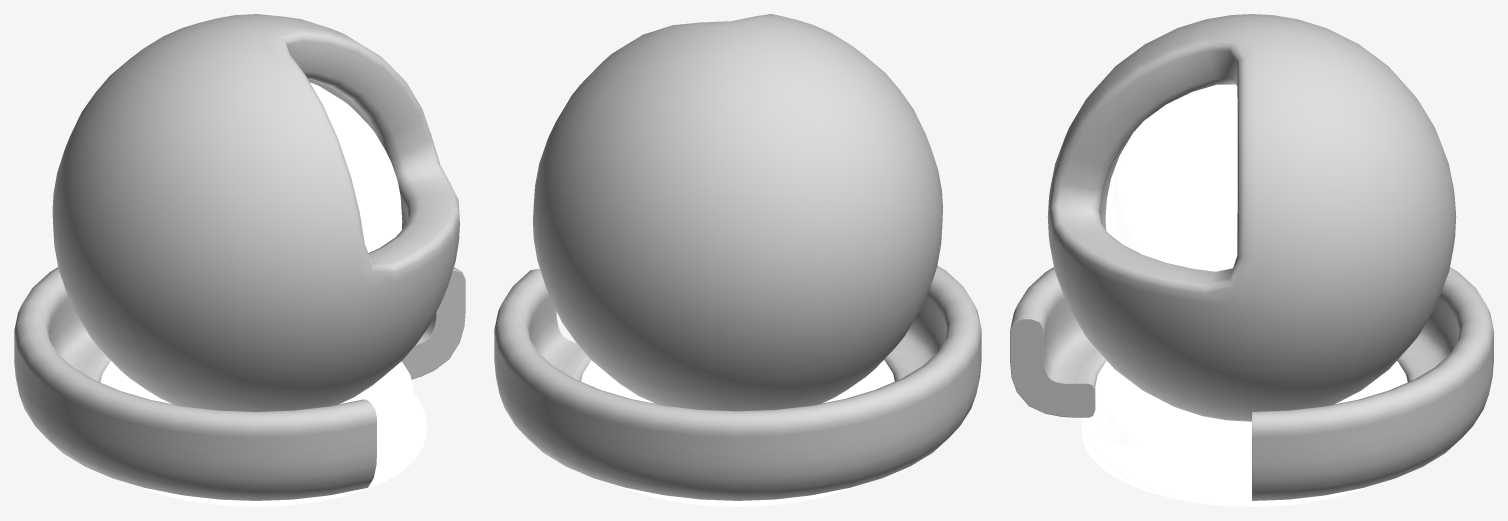
The model's file is usd-shaderball-ball.glb.
The picture shows the model from 3 angles, left to right: view 1: azimuth 30°, elevation 25°; view 2: azimuth 150°, elevation 25°; view 3: azimuth 270°, elevation 25°; orthographic projection.
Parts seen in each view (by area): view 1: material_surface, base, core; view 2: material_surface, base; view 3: material_surface, core, base.
Boxes of the visible parts, x1,y1,x2,y2 form: material_surface: (14,14,465,500); base: (100,361,426,506); core: (310,82,402,252); material_surface: (494,14,981,500); base: (581,360,894,506); material_surface: (1010,14,1493,500); core: (1105,84,1237,271); base: (1081,361,1407,506).
Size of the model in its own units: 8.93 by 8.21 by 8.93.
2 materials, 1 textured.
